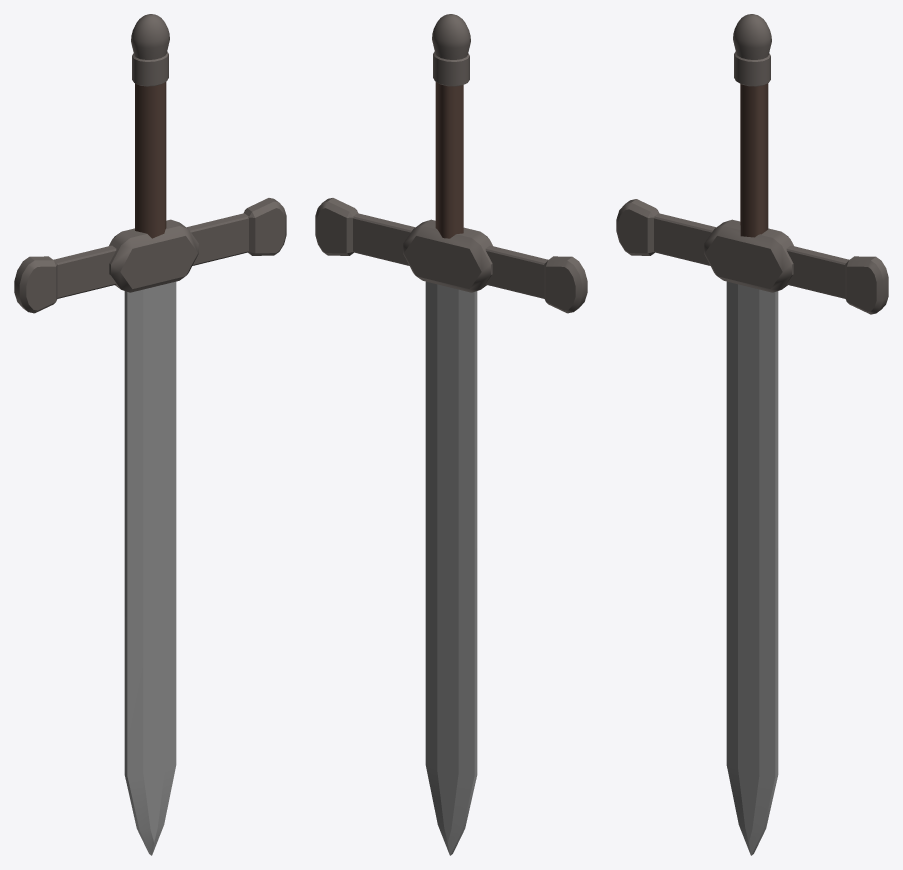
File: Espada_Modelo5.fbx
3 renders of one model, left to right at view 1: azimuth 30°, elevation 25°; view 2: azimuth 150°, elevation 25°; view 3: azimuth 330°, elevation 25°, orthographic.
Visible parts, largest first — view 1: Espada_Modelo5; view 2: Espada_Modelo5; view 3: Espada_Modelo5.
Boxes of the visible parts, x1,y1,x2,y2 form: Espada_Modelo5: [14, 14, 286, 855]; Espada_Modelo5: [315, 14, 587, 855]; Espada_Modelo5: [616, 14, 888, 855].
Size of the model in its own units: 0.5365 by 1.61 by 0.0603.
